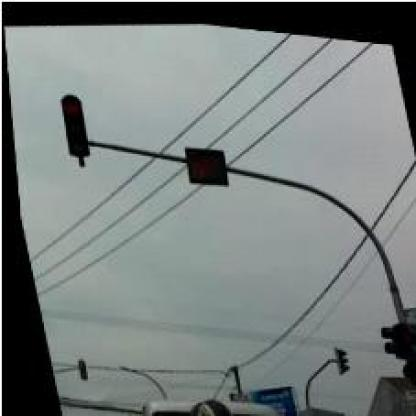red: (54, 92, 89, 158), (385, 308, 414, 377)
